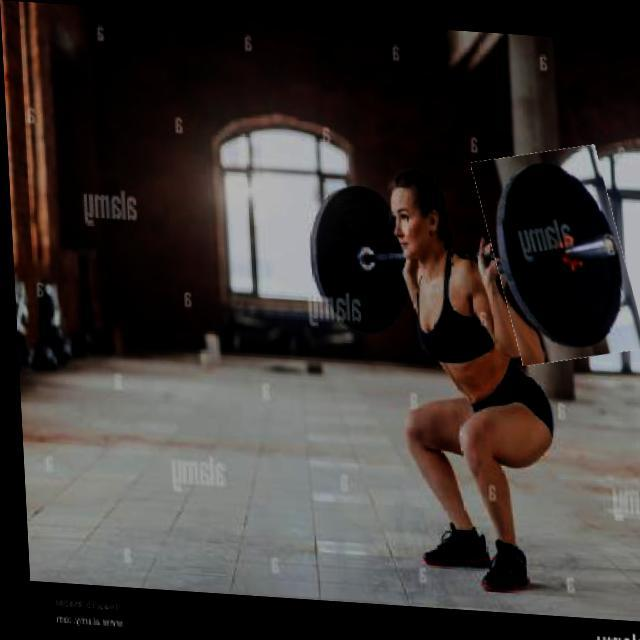barbell: (479, 136, 635, 360)
